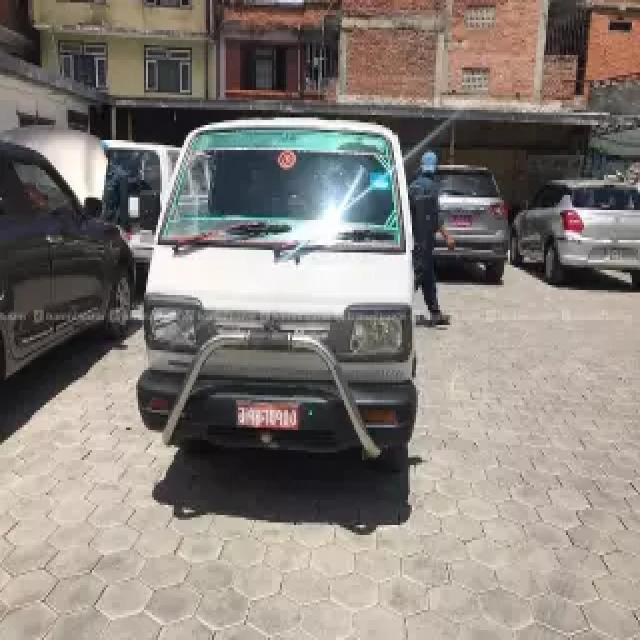License-plate: (233, 402, 298, 432), (453, 212, 481, 230), (604, 243, 629, 262)
